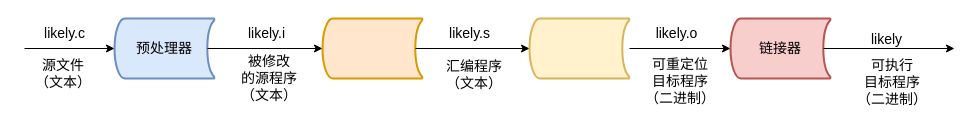
Some shapes in this 980 by 124 pixel diagram are drawn without their labels. The shapes that lost their labels are listed below. From the top down, each one's centre as x and y in pixels, then its label:
[372,48]: 编译器
[579,48]: 汇编器
